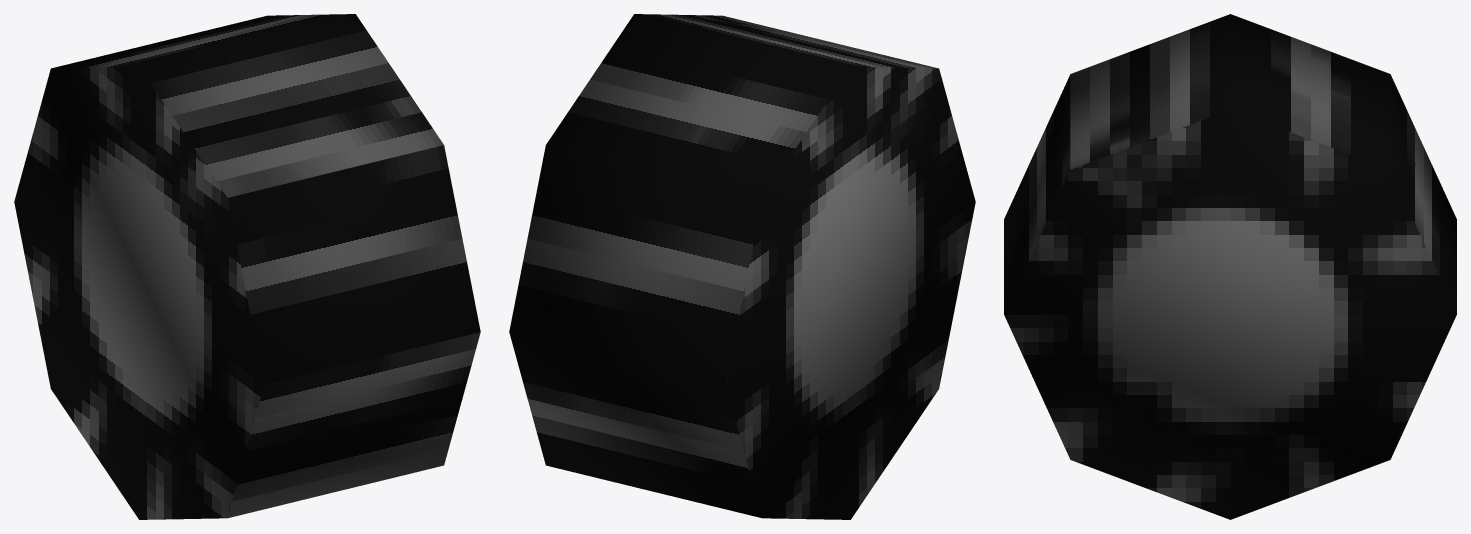
File: Tire.fbx
3 views of the same model, side by side, from view 1: azimuth 30°, elevation 25°; view 2: azimuth 150°, elevation 25°; view 3: azimuth 270°, elevation 25° (orthographic). The views are drawn at different scales.
Visible parts, largest first — view 1: Cylinder.003; view 2: Cylinder.003; view 3: Cylinder.003.
Part boxes in pixels (x1,y1,x2,y2): Cylinder.003: [14, 14, 480, 519]; Cylinder.003: [509, 14, 975, 519]; Cylinder.003: [1004, 14, 1456, 519].
Bounding box in the file's own units: 15.81 × 31.62 × 31.62.
